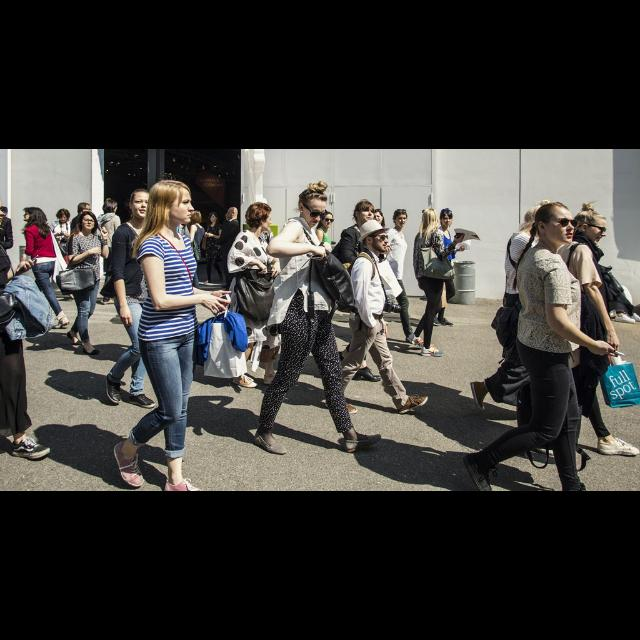head: (150, 180, 196, 226), (534, 203, 576, 245), (297, 184, 329, 230), (574, 211, 608, 247), (362, 221, 390, 255), (532, 204, 560, 234), (130, 188, 156, 220), (249, 204, 273, 232), (354, 200, 376, 223), (81, 212, 97, 232), (393, 210, 409, 228), (22, 207, 42, 221), (440, 210, 454, 228), (423, 209, 437, 227), (321, 211, 335, 229), (191, 210, 203, 226), (105, 199, 118, 213), (372, 210, 384, 224), (78, 203, 92, 215), (59, 209, 70, 223), (226, 208, 238, 220), (210, 212, 218, 224)
person: (250, 180, 386, 460), (468, 202, 574, 420), (322, 218, 432, 418), (97, 188, 169, 410), (221, 201, 293, 391), (328, 198, 396, 386), (404, 208, 466, 359), (54, 210, 110, 358), (362, 207, 420, 346), (12, 206, 72, 332), (427, 207, 468, 329), (93, 197, 123, 306), (312, 209, 341, 317), (362, 208, 392, 312), (47, 208, 77, 298), (70, 202, 98, 298), (214, 206, 242, 292), (181, 210, 207, 292), (200, 212, 226, 286)
